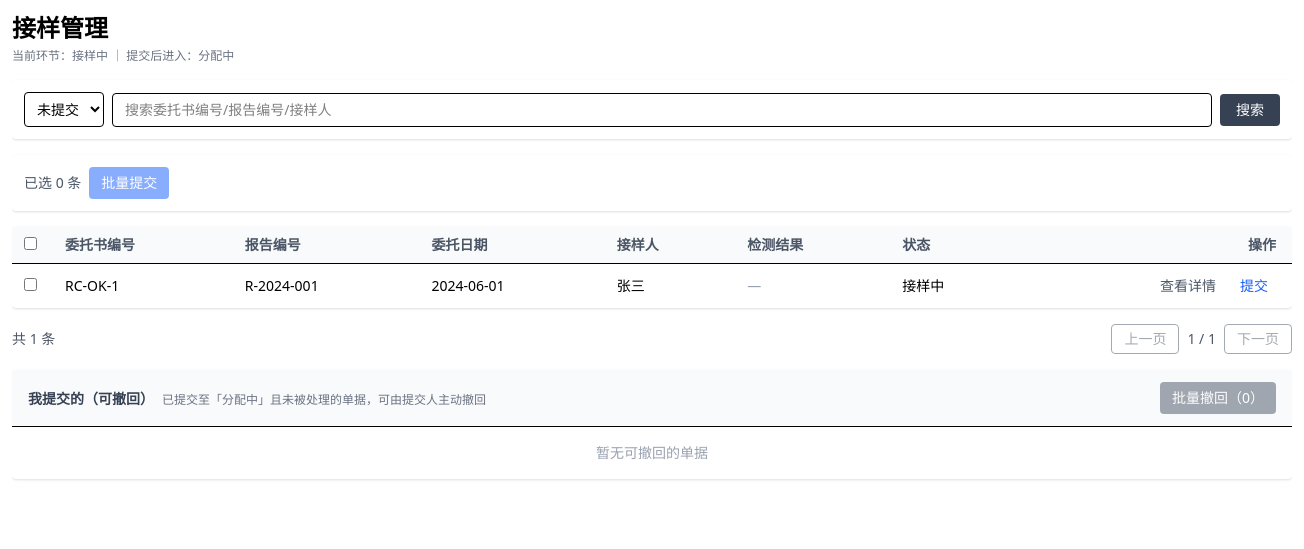
Test: 操作失败 › 成功时显示 notice 提示
Expected: the text "RC-OK-1" is shown, top-left (49, 264), bottom-right (229, 308)
Click the button "提交".
click(1254, 286)  # box top-left (1232, 272), bottom-right (1276, 300)
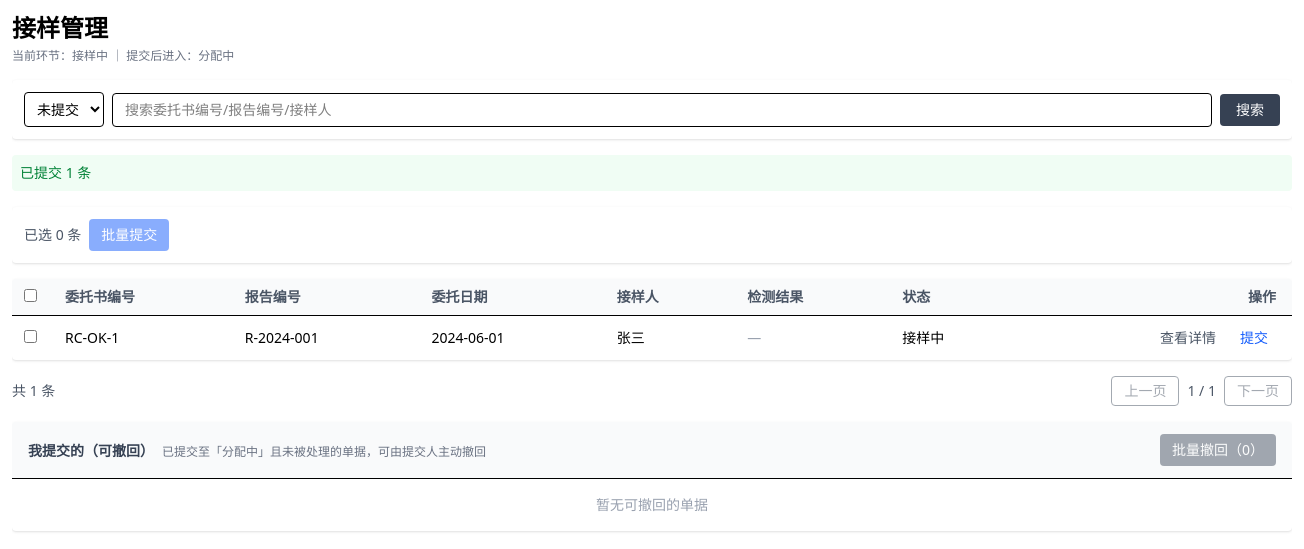
Expected: the text "已提交 1 条" is shown, top-left (12, 155), bottom-right (1292, 191)
